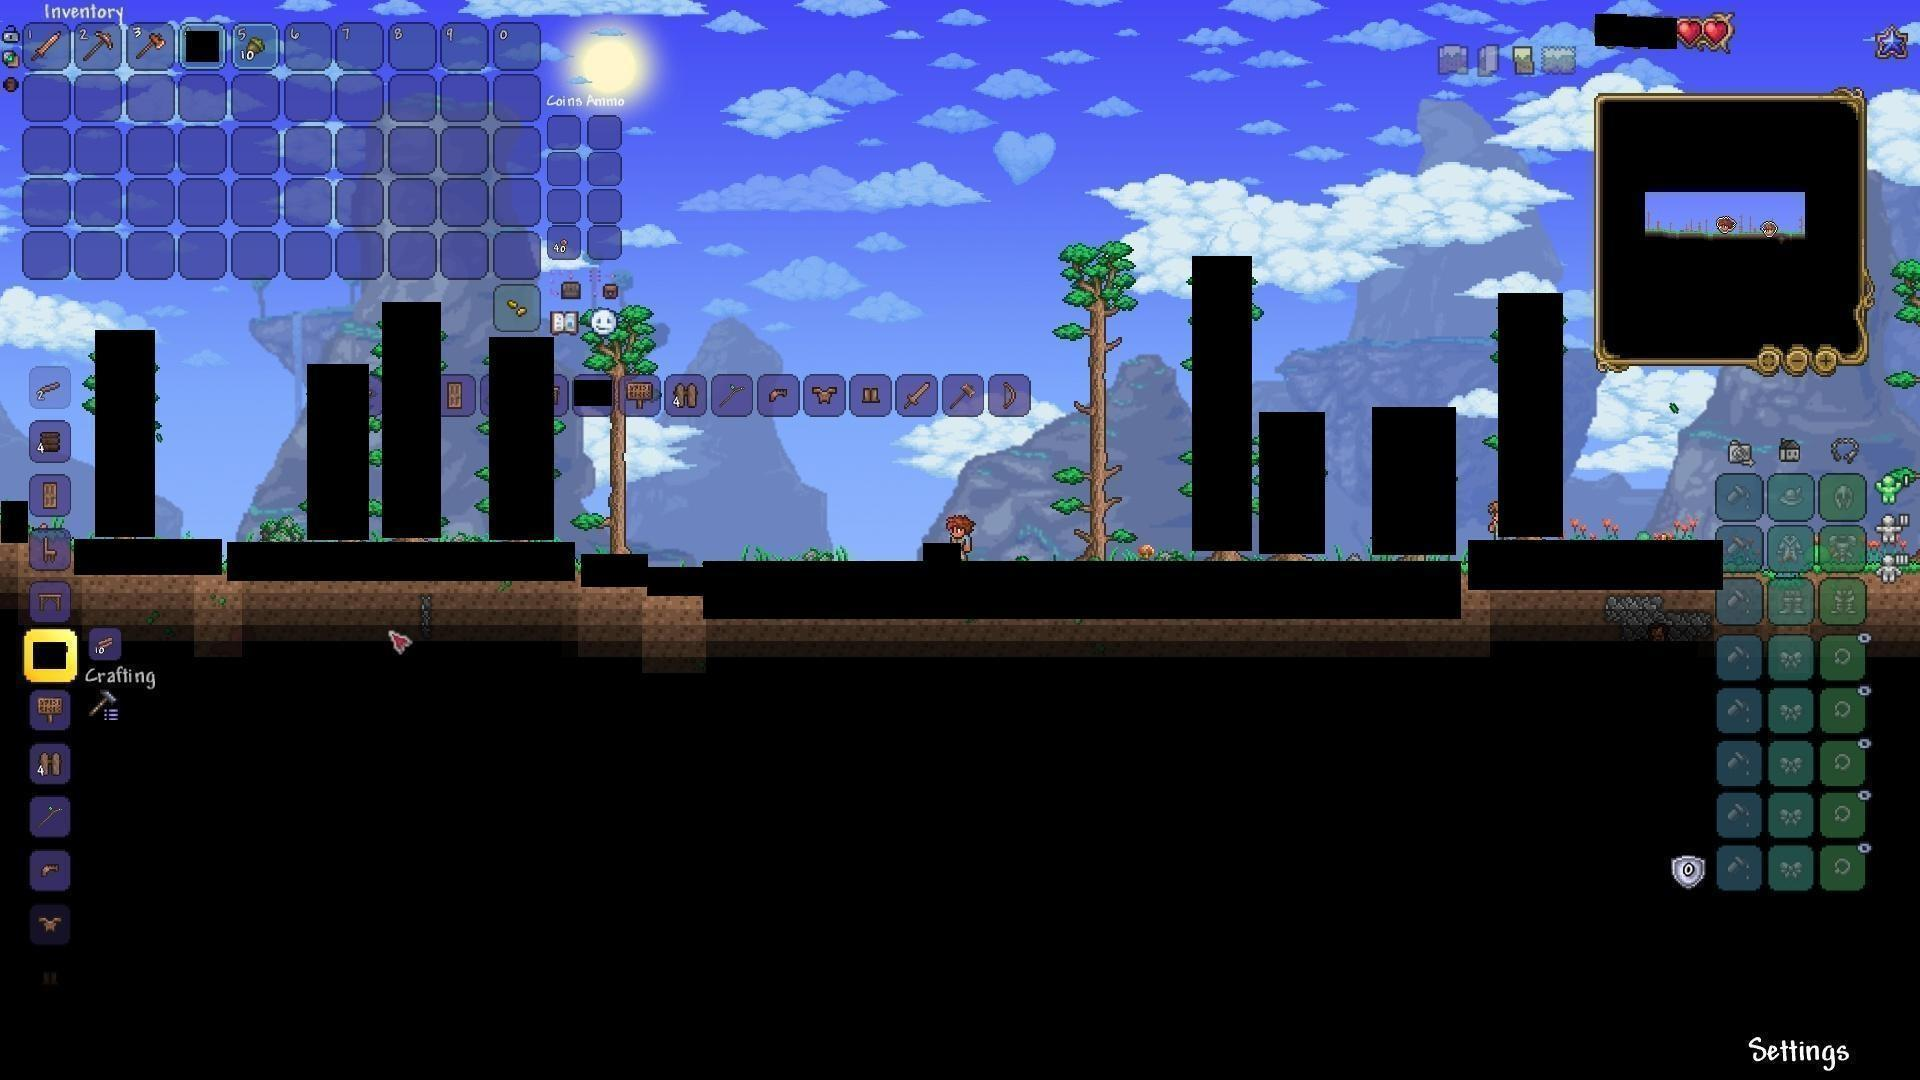breastplate: (36, 913, 66, 934), (811, 382, 841, 404)
heart: (1702, 17, 1730, 47), (1676, 17, 1704, 47)
helmet: (764, 382, 794, 410), (36, 856, 66, 884)
legs: (858, 380, 884, 409)
tree: (1063, 236, 1124, 553), (593, 418, 655, 549)
wood: (92, 632, 120, 655)
